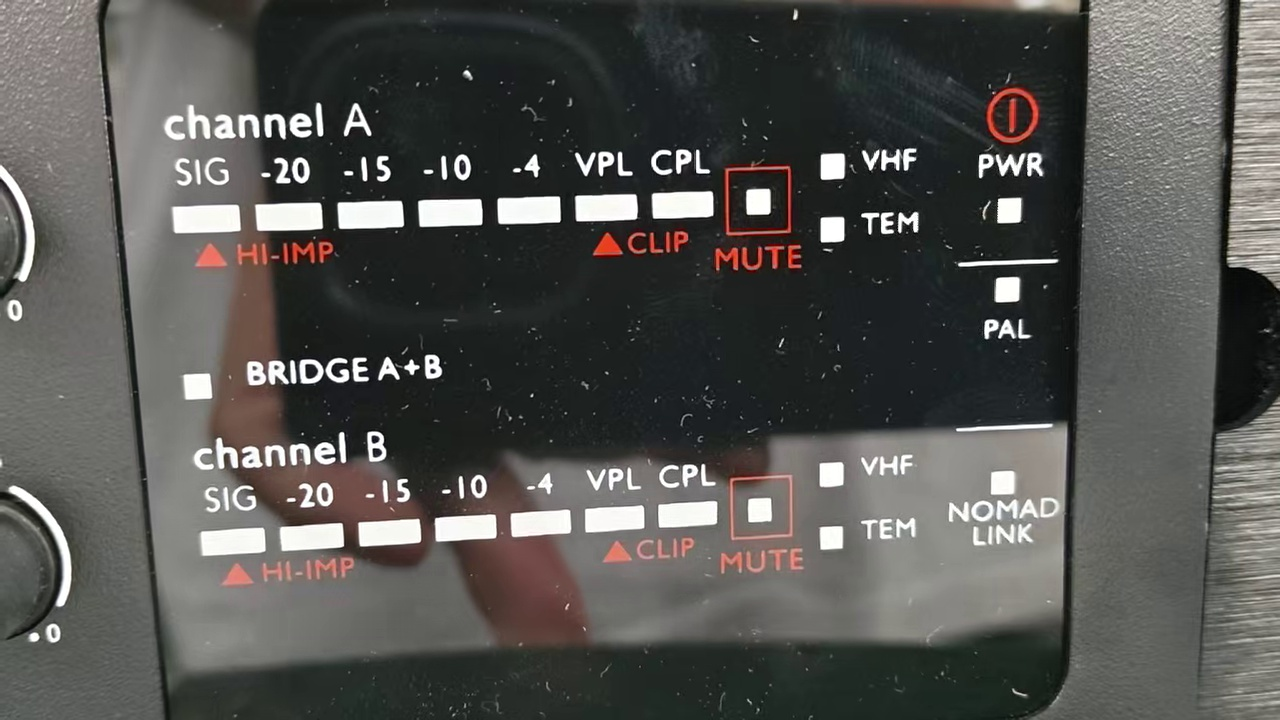FP_CPL: (651, 459, 723, 539), (644, 143, 714, 224)
FP_PWR: (961, 147, 1055, 226)
FP_PWR_area: (958, 83, 1058, 259)
FP_SIG_area: (158, 95, 924, 283), (189, 426, 924, 595)
FP_VPL: (569, 143, 642, 225), (583, 462, 649, 543)
